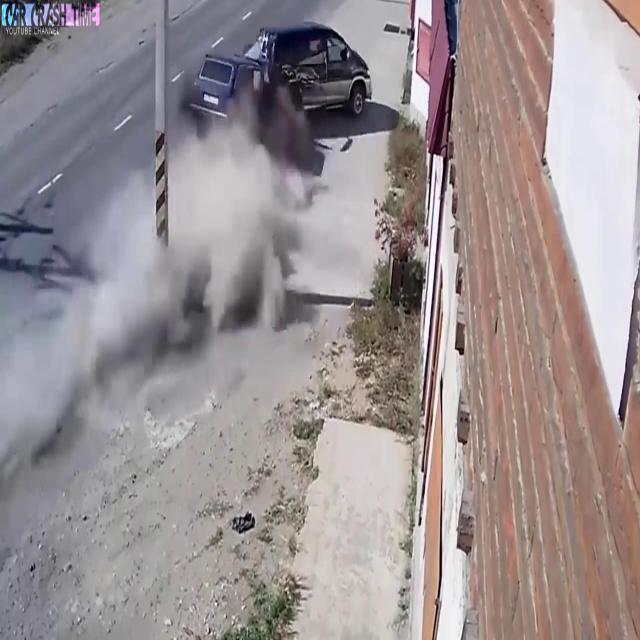accident: (172, 18, 374, 285)
